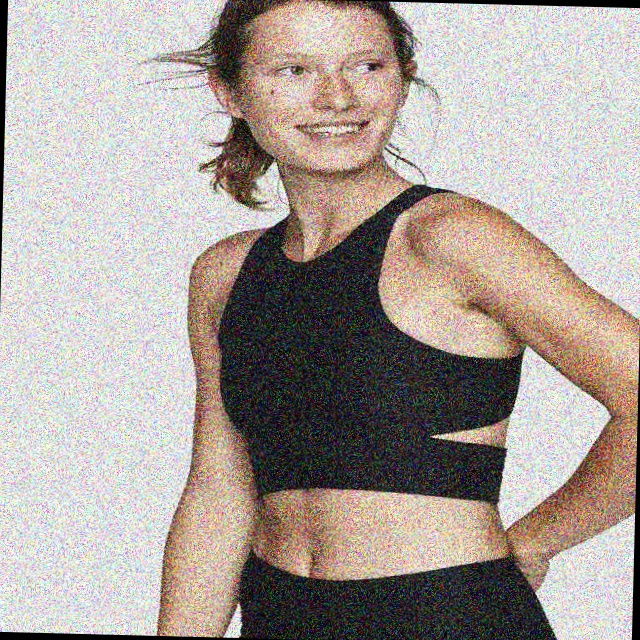Crop_Top: (213, 352, 521, 586)
Sleeveless: (410, 193, 525, 291), (186, 224, 248, 292)
